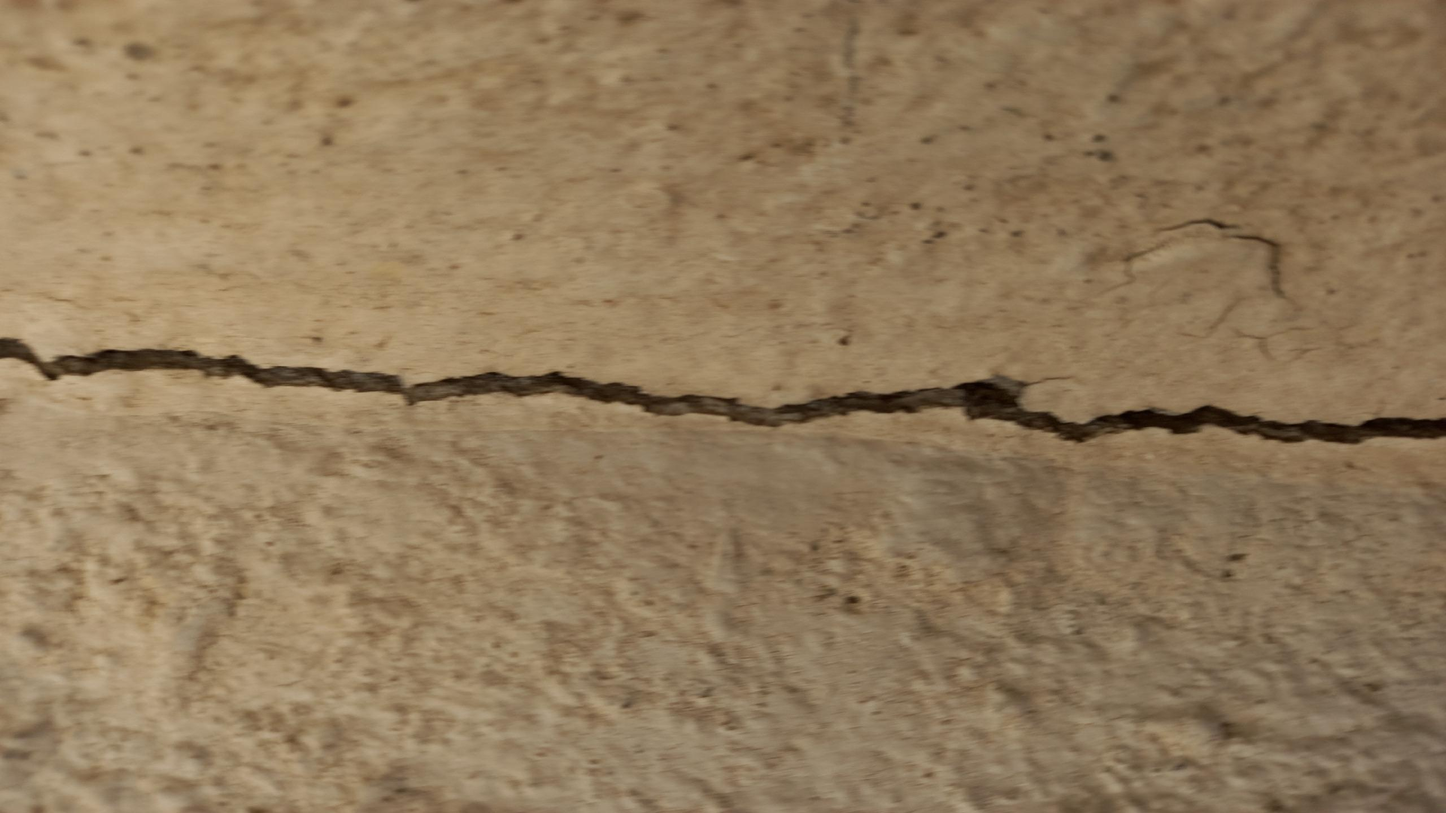crack: (0, 337, 1444, 444)
